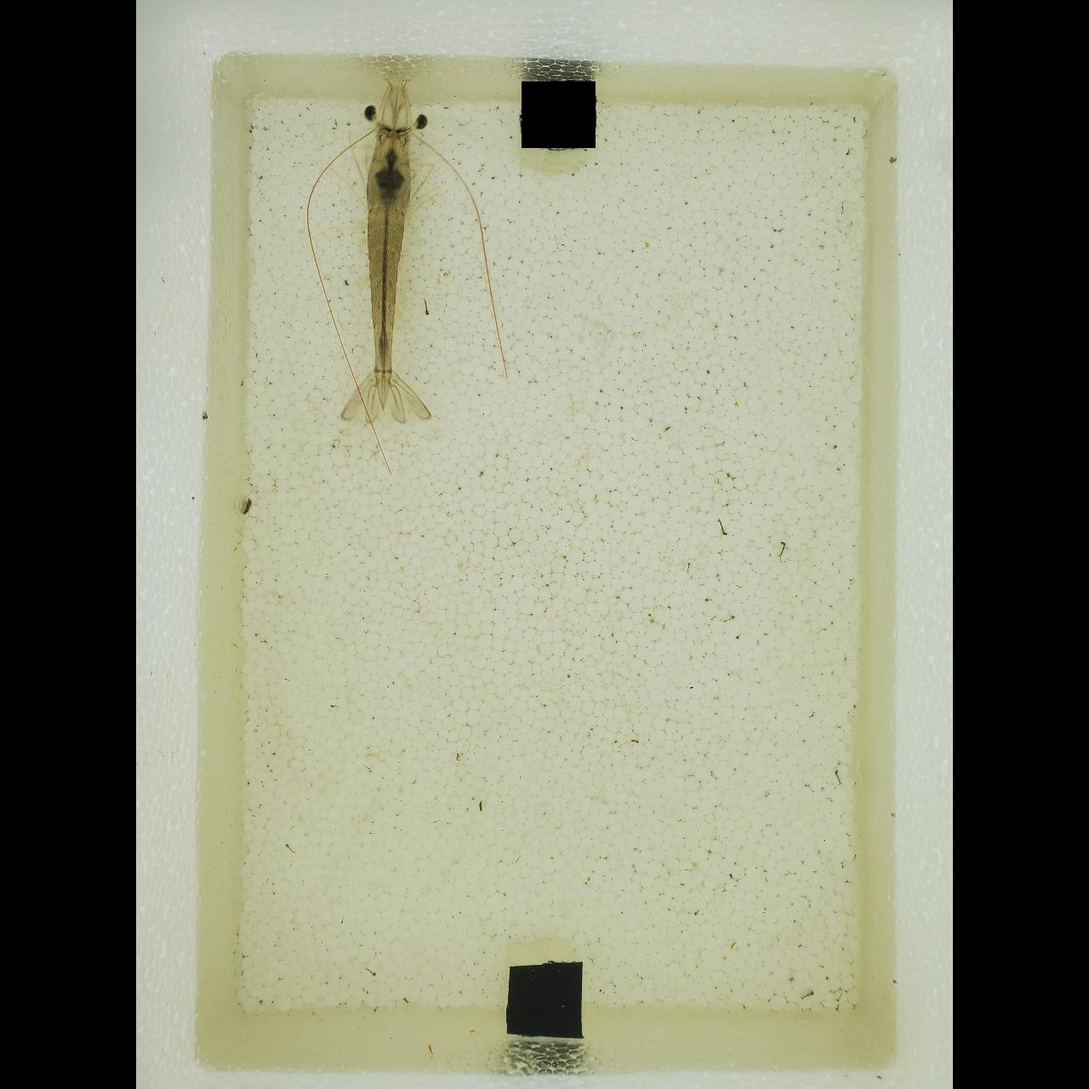box: (506, 961, 586, 1040), (521, 81, 598, 152)
top_shrimp: (367, 128, 413, 418)
